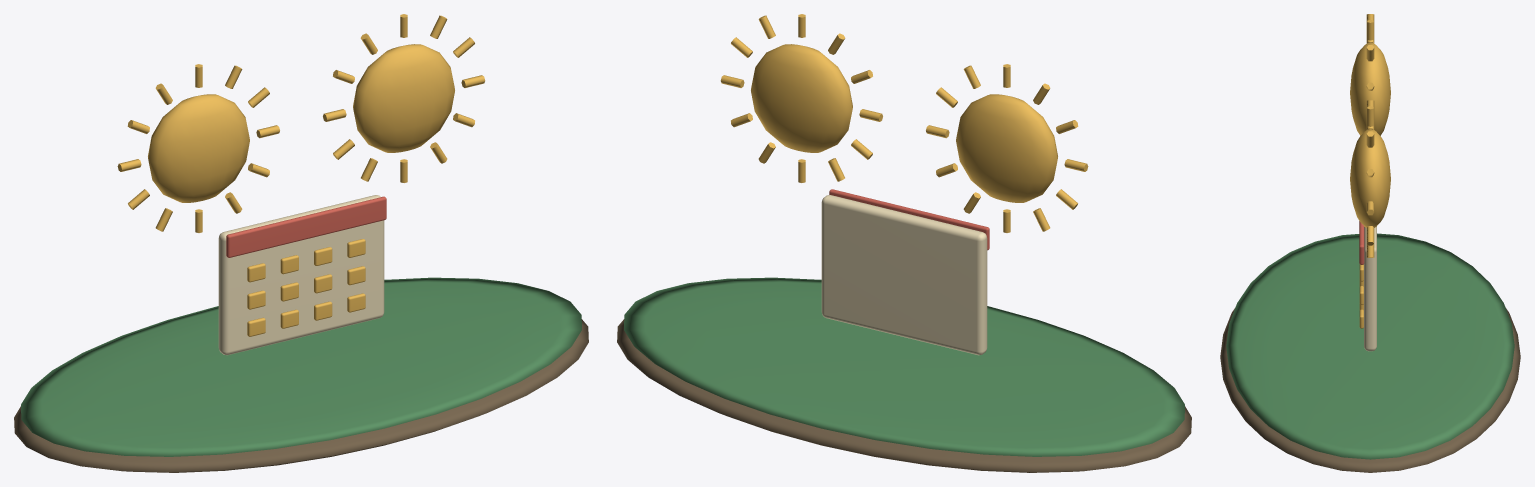
Rendered from many-evenings.glb.
3 views of the same model, side by side, from view 1: azimuth 30°, elevation 25°; view 2: azimuth 150°, elevation 25°; view 3: azimuth 270°, elevation 25° (orthographic). The views are drawn at different scales.
Visible parts, largest first — view 1: many-evenings_surface_01, many-evenings_surface_02, many-evenings_surface_03, many-evenings_surface_00, many-evenings_surface_04; view 2: many-evenings_surface_01, many-evenings_surface_02, many-evenings_surface_03, many-evenings_surface_00, many-evenings_surface_04; view 3: many-evenings_surface_01, many-evenings_surface_02, many-evenings_surface_00, many-evenings_surface_03.
Boxes of the visible parts, left/top/right/bottom form: many-evenings_surface_01: left=21, top=277, right=581, bottom=456; many-evenings_surface_02: left=117, top=14, right=485, bottom=336; many-evenings_surface_03: left=218, top=195, right=384, bottom=355; many-evenings_surface_00: left=14, top=319, right=588, bottom=472; many-evenings_surface_04: left=226, top=196, right=386, bottom=257; many-evenings_surface_01: left=624, top=277, right=1184, bottom=456; many-evenings_surface_02: left=720, top=14, right=1088, bottom=232; many-evenings_surface_03: left=821, top=195, right=987, bottom=355; many-evenings_surface_00: left=617, top=319, right=1191, bottom=472; many-evenings_surface_04: left=829, top=189, right=989, bottom=250; many-evenings_surface_01: left=1226, top=233, right=1514, bottom=459; many-evenings_surface_02: left=1350, top=14, right=1390, bottom=328; many-evenings_surface_00: left=1220, top=308, right=1520, bottom=472; many-evenings_surface_03: left=1364, top=226, right=1376, bottom=351.
Size of the model in its own units: 4.56 by 2.82 by 2.5.
